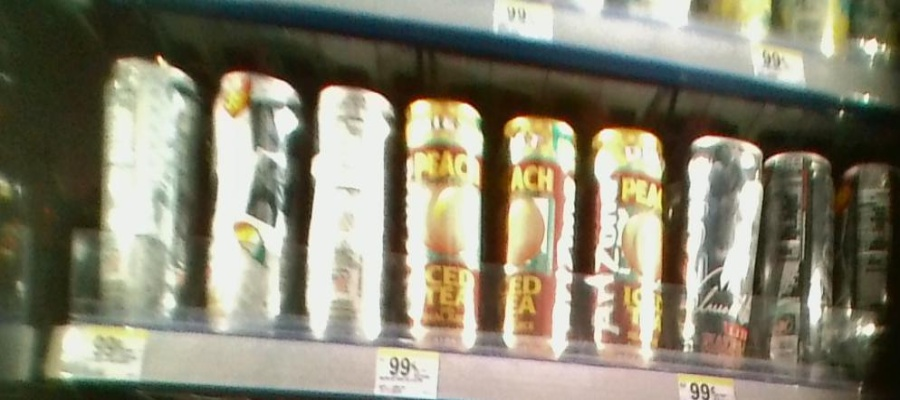bottle: (91, 46, 196, 332), (198, 53, 299, 341), (304, 63, 395, 346), (399, 78, 484, 352), (500, 99, 580, 369), (586, 109, 668, 369), (677, 122, 761, 372), (764, 132, 833, 384), (838, 144, 894, 388)
